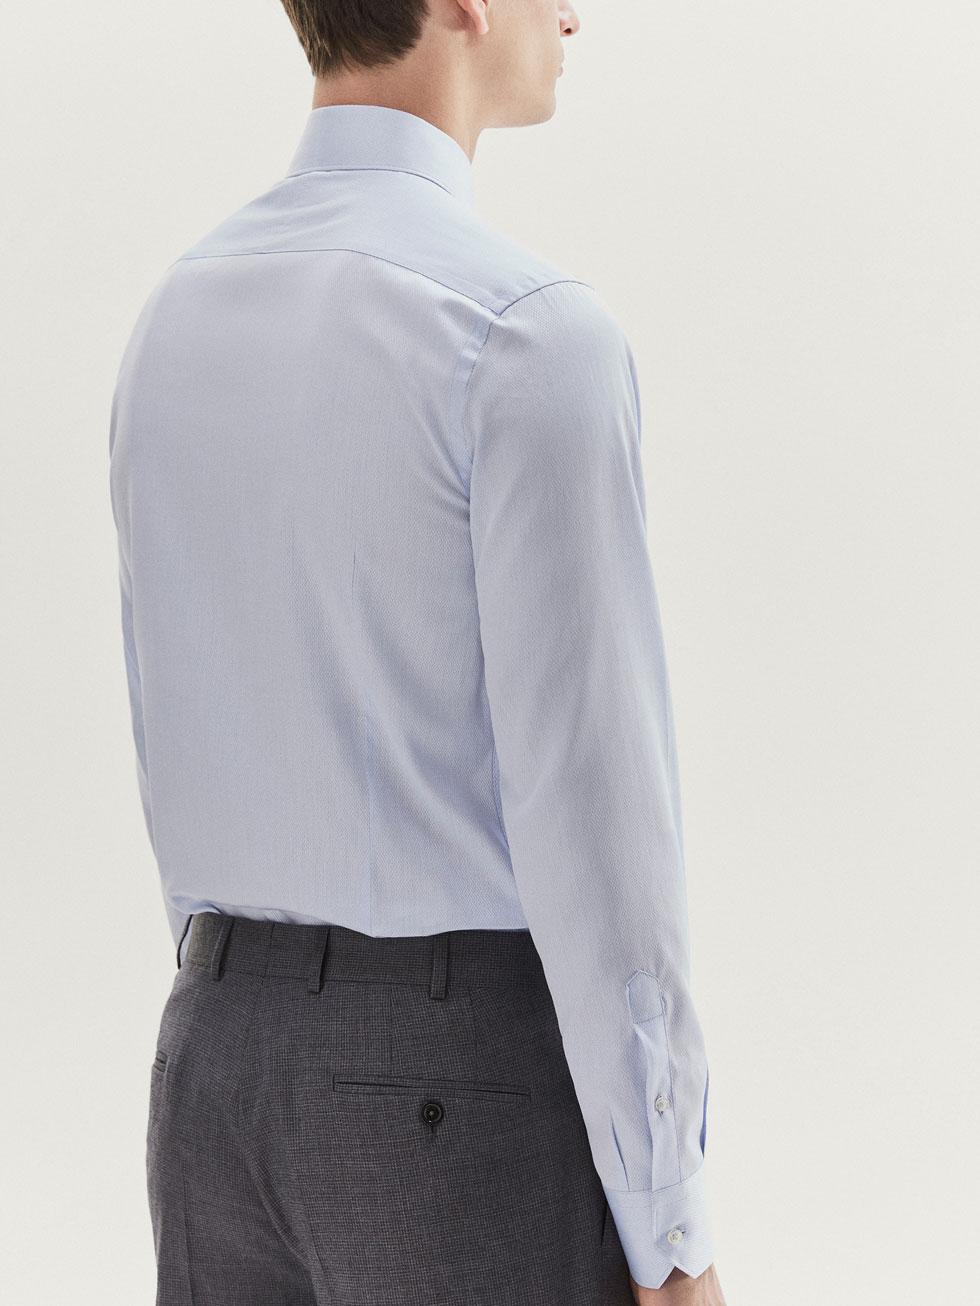teeshirt: (95, 105, 777, 1285)
